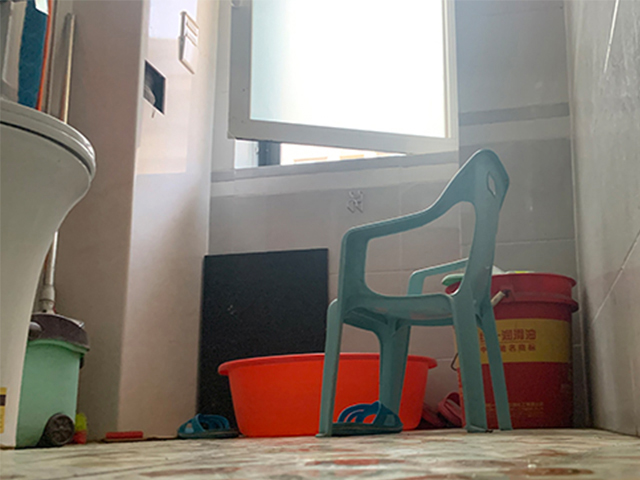closestool: (1, 95, 97, 450)
slippers: (329, 401, 404, 437), (177, 412, 240, 439)
stool: (314, 147, 514, 433)
